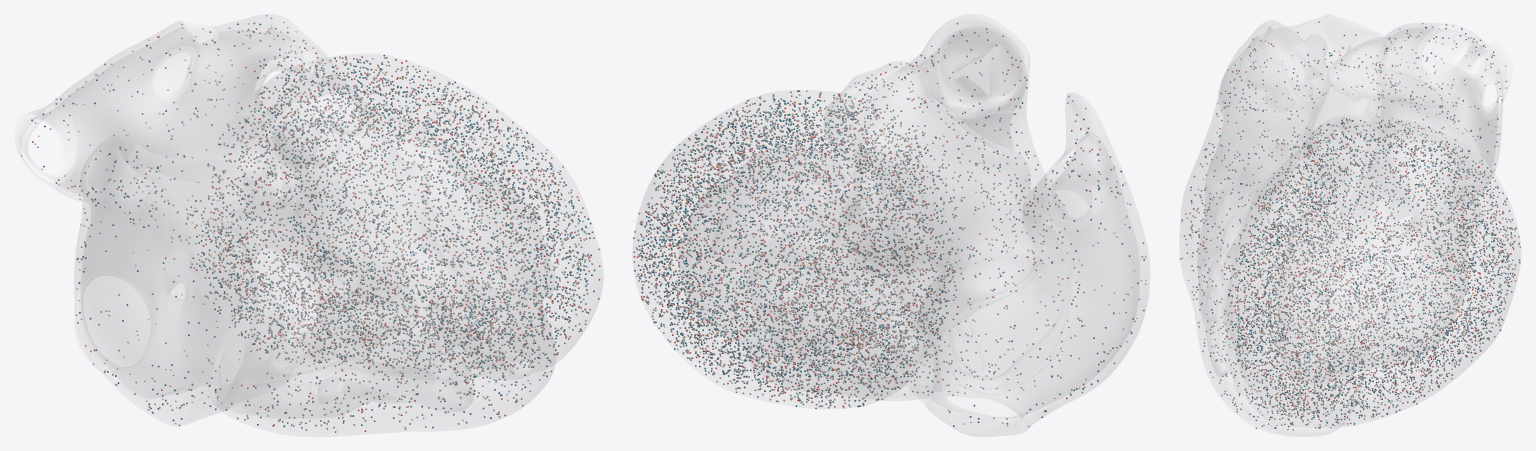
File: 3d-vh-f-heart-UBERON_0000948-all-as-azimuth-sphere-hra-pop.glb
3 views of the same model, side by side, from view 1: azimuth 30°, elevation 25°; view 2: azimuth 150°, elevation 25°; view 3: azimuth 270°, elevation 25° (orthographic). The views are drawn at different scales.
Parts seen in each view (by area): view 1: VH_F_right_ventricle, VH_F_right_cardiac_atrium, VH_F_left_cardiac_atrium, VH_F_left_ventricle, VH_F_tricuspid_valve, VH_F_aortic_valve, VH_F_pulmonary_valve, VH_F_papillary_muscle_of_heart_ant; view 2: VH_F_left_ventricle, VH_F_right_cardiac_atrium, VH_F_left_cardiac_atrium, VH_F_right_ventricle, VH_F_tricuspid_valve, VH_F_mitral_valve, VH_F_pulmonary_valve, VH_F_papillary_muscle_of_heart_antlat, VH_F_papillary_muscle_of_heart_posmed, VH_F_interventricular_septum; view 3: VH_F_left_ventricle, VH_F_right_ventricle, VH_F_left_cardiac_atrium, VH_F_papillary_muscle_of_heart_antlat, VH_F_right_cardiac_atrium, VH_F_aortic_valve, VH_F_mitral_valve, VH_F_interventricular_septum, VH_F_pulmonary_valve, VH_F_papillary_muscle_of_heart_posmed.
Boxes of the visible parts, x1=… form: VH_F_right_ventricle: x1=210, y1=58, x2=555, y2=436; VH_F_right_cardiac_atrium: x1=74, y1=133, x2=277, y2=426; VH_F_left_cardiac_atrium: x1=18, y1=14, x2=335, y2=237; VH_F_left_ventricle: x1=254, y1=54, x2=602, y2=371; VH_F_tricuspid_valve: x1=215, y1=246, x2=336, y2=405; VH_F_aortic_valve: x1=204, y1=112, x2=297, y2=225; VH_F_pulmonary_valve: x1=271, y1=92, x2=363, y2=170; VH_F_papillary_muscle_of_heart_ant: x1=369, y1=318, x2=456, y2=372; VH_F_left_ventricle: x1=633, y1=90, x2=911, y2=408; VH_F_right_cardiac_atrium: x1=891, y1=93, x2=1149, y2=436; VH_F_left_cardiac_atrium: x1=824, y1=61, x2=1045, y2=341; VH_F_right_ventricle: x1=748, y1=14, x2=1067, y2=400; VH_F_tricuspid_valve: x1=951, y1=232, x2=1068, y2=375; VH_F_mitral_valve: x1=826, y1=196, x2=944, y2=308; VH_F_pulmonary_valve: x1=939, y1=28, x2=1026, y2=118; VH_F_papillary_muscle_of_heart_antlat: x1=712, y1=182, x2=825, y2=263; VH_F_papillary_muscle_of_heart_posmed: x1=746, y1=238, x2=835, y2=314; VH_F_interventricular_septum: x1=756, y1=187, x2=904, y2=391; VH_F_left_ventricle: x1=1225, y1=115, x2=1520, y2=427; VH_F_right_ventricle: x1=1180, y1=20, x2=1364, y2=436; VH_F_left_cardiac_atrium: x1=1327, y1=23, x2=1506, y2=217; VH_F_papillary_muscle_of_heart_antlat: x1=1328, y1=196, x2=1422, y2=327; VH_F_right_cardiac_atrium: x1=1219, y1=14, x2=1482, y2=250; VH_F_aortic_valve: x1=1300, y1=82, x2=1376, y2=166; VH_F_mitral_valve: x1=1356, y1=153, x2=1437, y2=237; VH_F_interventricular_septum: x1=1221, y1=140, x2=1354, y2=412; VH_F_pulmonary_valve: x1=1238, y1=37, x2=1297, y2=114; VH_F_papillary_muscle_of_heart_posmed: x1=1305, y1=292, x2=1396, y2=362.
Size of the model in its own units: 0.1425 by 0.11 by 0.1015.
